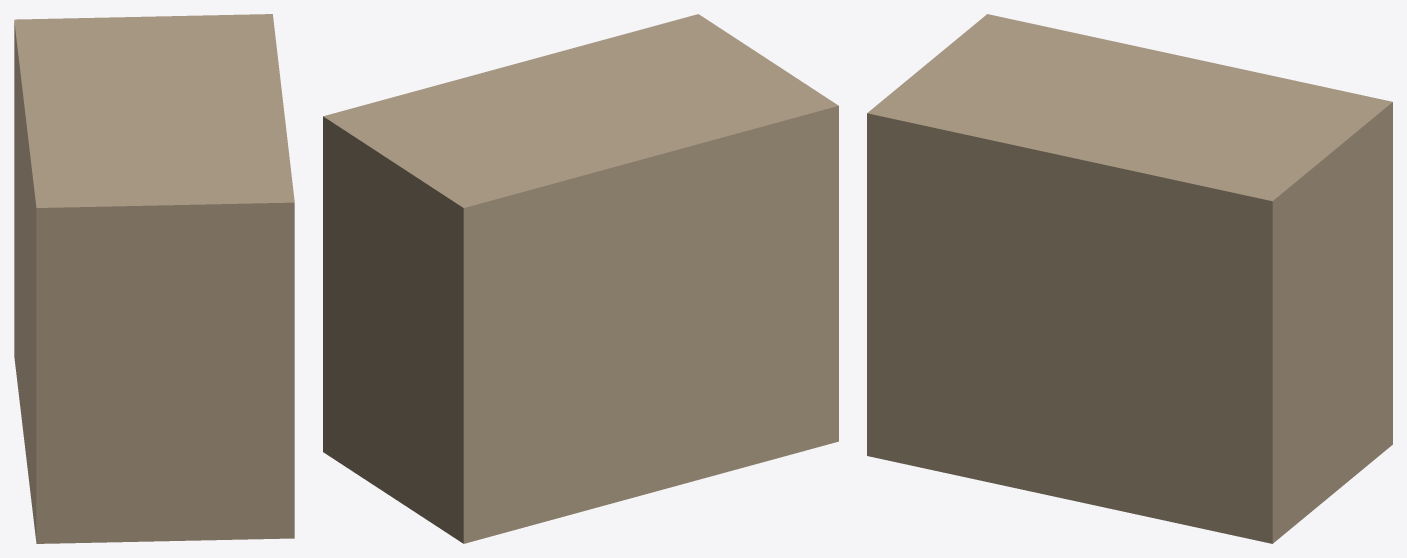
The model's file is bld_99020343.dae.
3 views of the same model, side by side, from view 1: azimuth 30°, elevation 25°; view 2: azimuth 150°, elevation 25°; view 3: azimuth 270°, elevation 25° (orthographic). The views are drawn at different scales.
Visible parts, largest first — view 1: bld_99020343; view 2: bld_99020343; view 3: bld_99020343.
Boxes of the visible parts, x1,y1,x2,y2 form: bld_99020343: [14, 14, 294, 543]; bld_99020343: [323, 14, 838, 543]; bld_99020343: [867, 14, 1392, 543].
Bounding box in the file's own units: 9.38 × 11.12 × 8.
